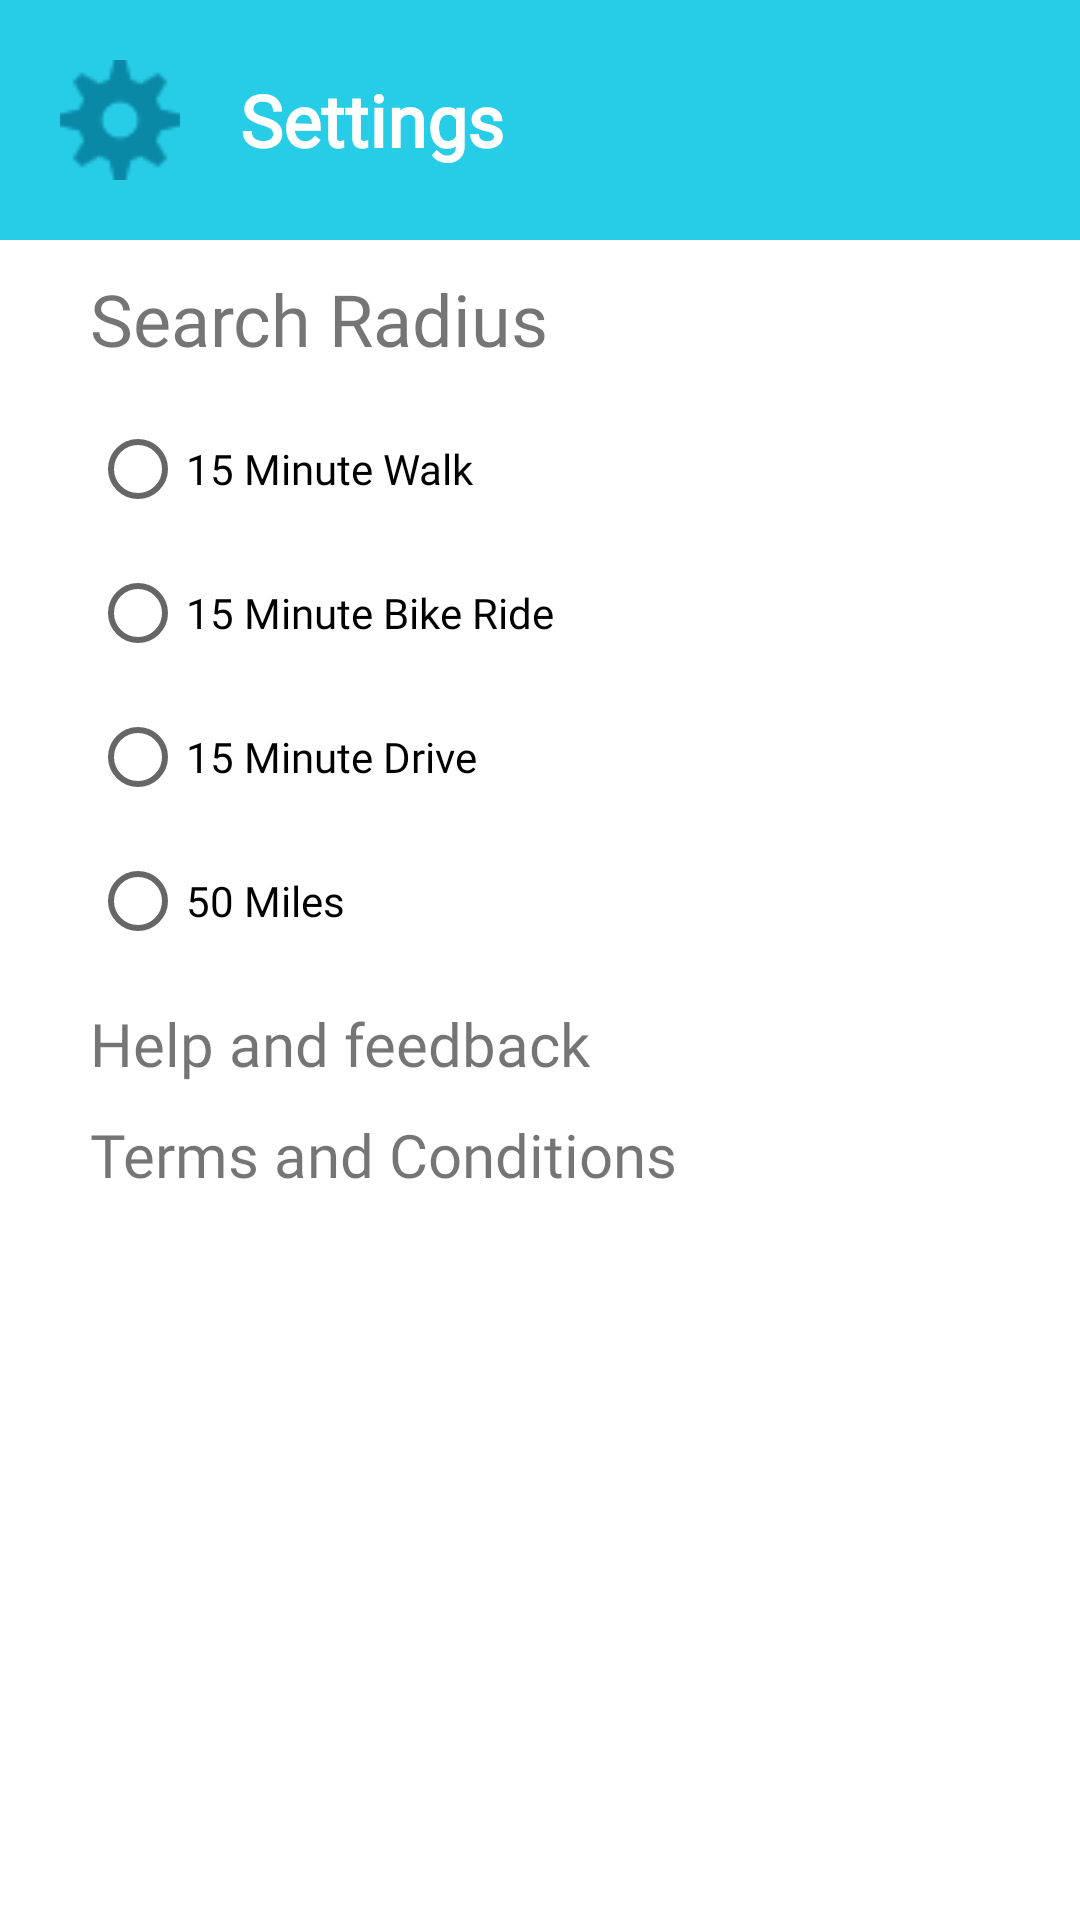

Icon click points for this 1080×1920 phone screenshot, format point (x, y):
cog: point (120, 120)
